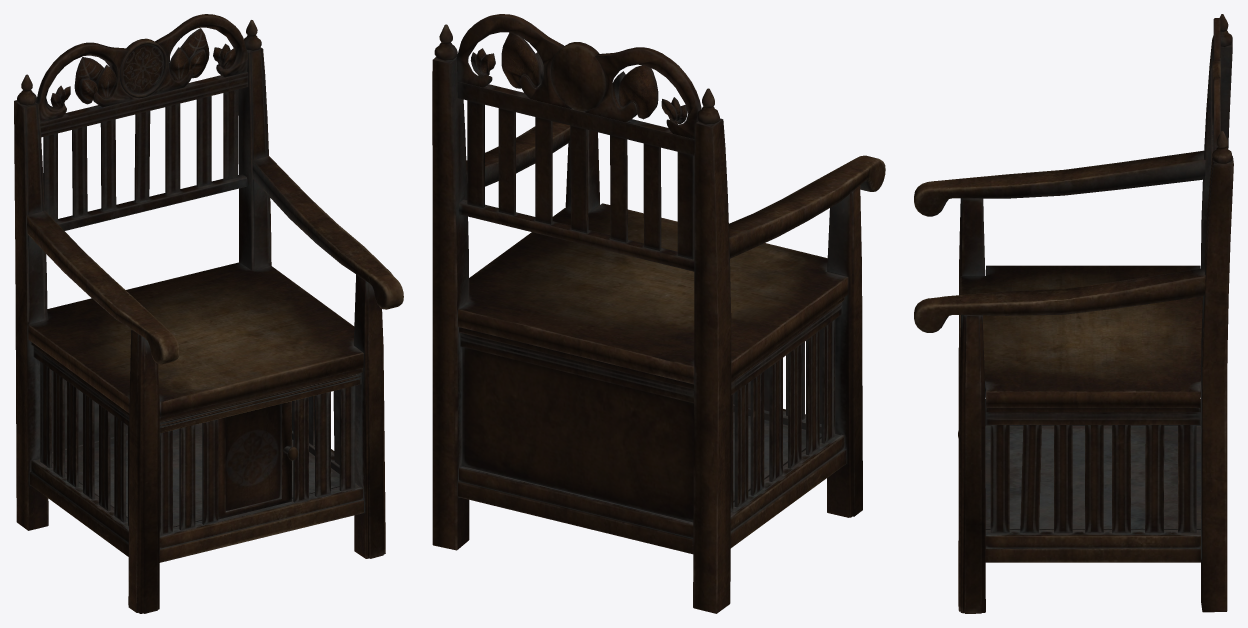
File: gallinera_chair.glb
3 renders of one model, left to right at view 1: azimuth 30°, elevation 25°; view 2: azimuth 150°, elevation 25°; view 3: azimuth 270°, elevation 25°, orthographic. The views are drawn at different scales.
Parts seen in each view (by area): view 1: gallinera_chair; view 2: gallinera_chair; view 3: gallinera_chair.
Boxes of the visible parts, x1,y1,x2,y2 form: gallinera_chair: [14, 14, 403, 613]; gallinera_chair: [432, 14, 885, 613]; gallinera_chair: [914, 14, 1233, 613].
Size of the model in its own units: 0.58 by 1.03 by 0.6034.
Materials: 1 (1 with a texture image).
